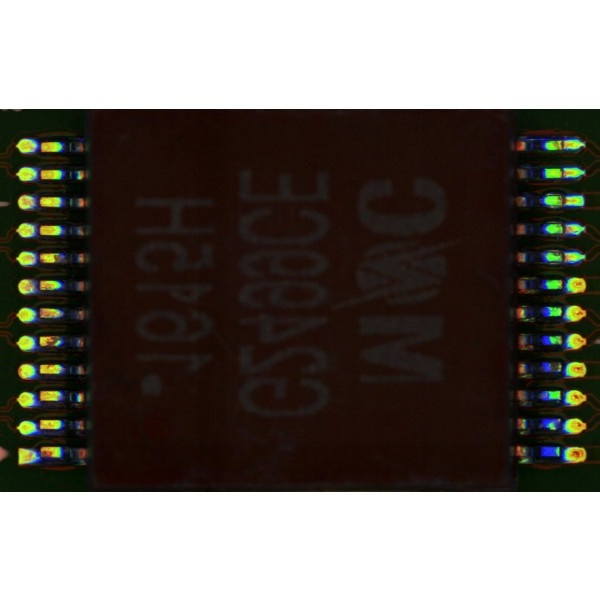Bad_podu: (553, 169, 575, 177), (554, 197, 577, 204), (555, 253, 573, 261), (553, 142, 573, 148), (554, 226, 573, 232)
